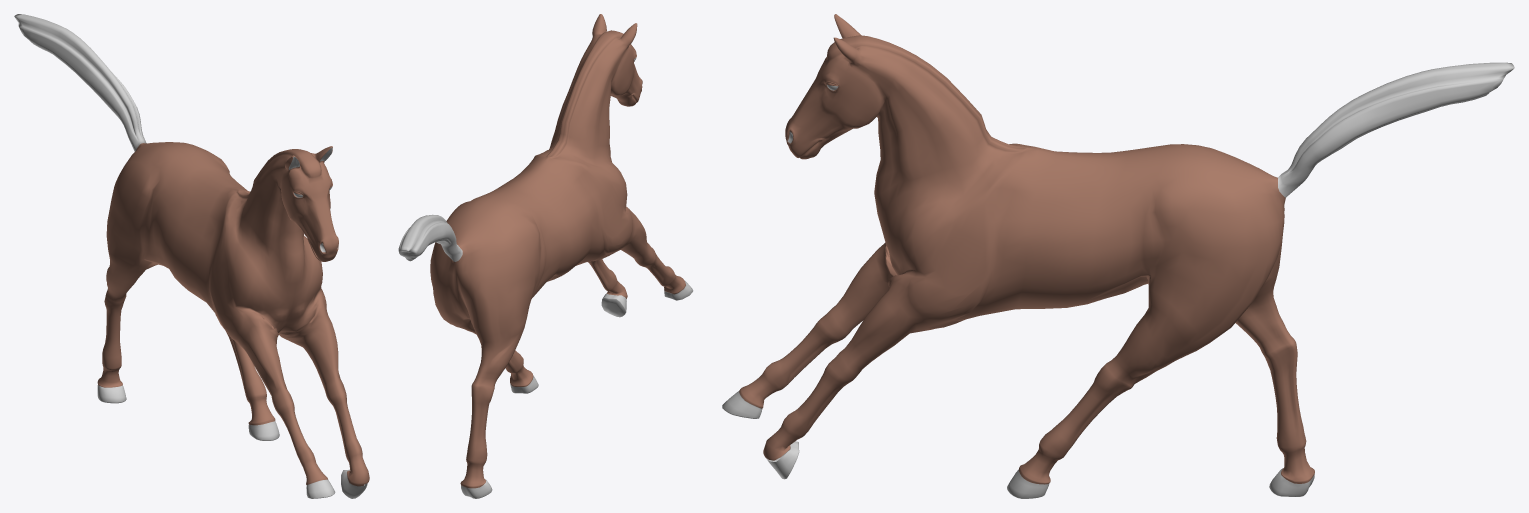
The model's file is horse_obj_21.obj.
The picture shows the model from 3 angles, left to right: view 1: azimuth 30°, elevation 25°; view 2: azimuth 150°, elevation 25°; view 3: azimuth 270°, elevation 25°; orthographic projection. The views are drawn at different scales.
Parts seen in each view (by area): view 1: Figure_1; view 2: Figure_1; view 3: Figure_1.
Boxes of the visible parts, x1=… form: Figure_1: x1=14, y1=14, x2=369, y2=498; Figure_1: x1=398, y1=14, x2=693, y2=498; Figure_1: x1=722, y1=14, x2=1514, y2=498.
Bounding box in the file's own units: 0.2421 × 0.8621 × 1.29.
